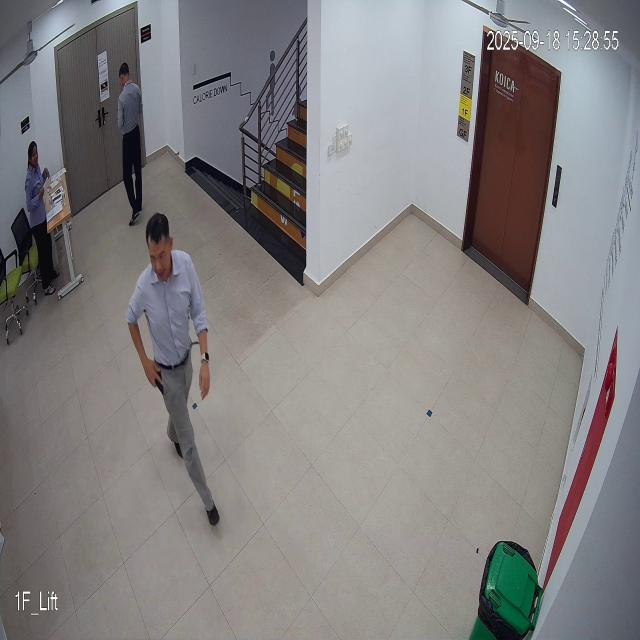face: (144, 211, 174, 282)
